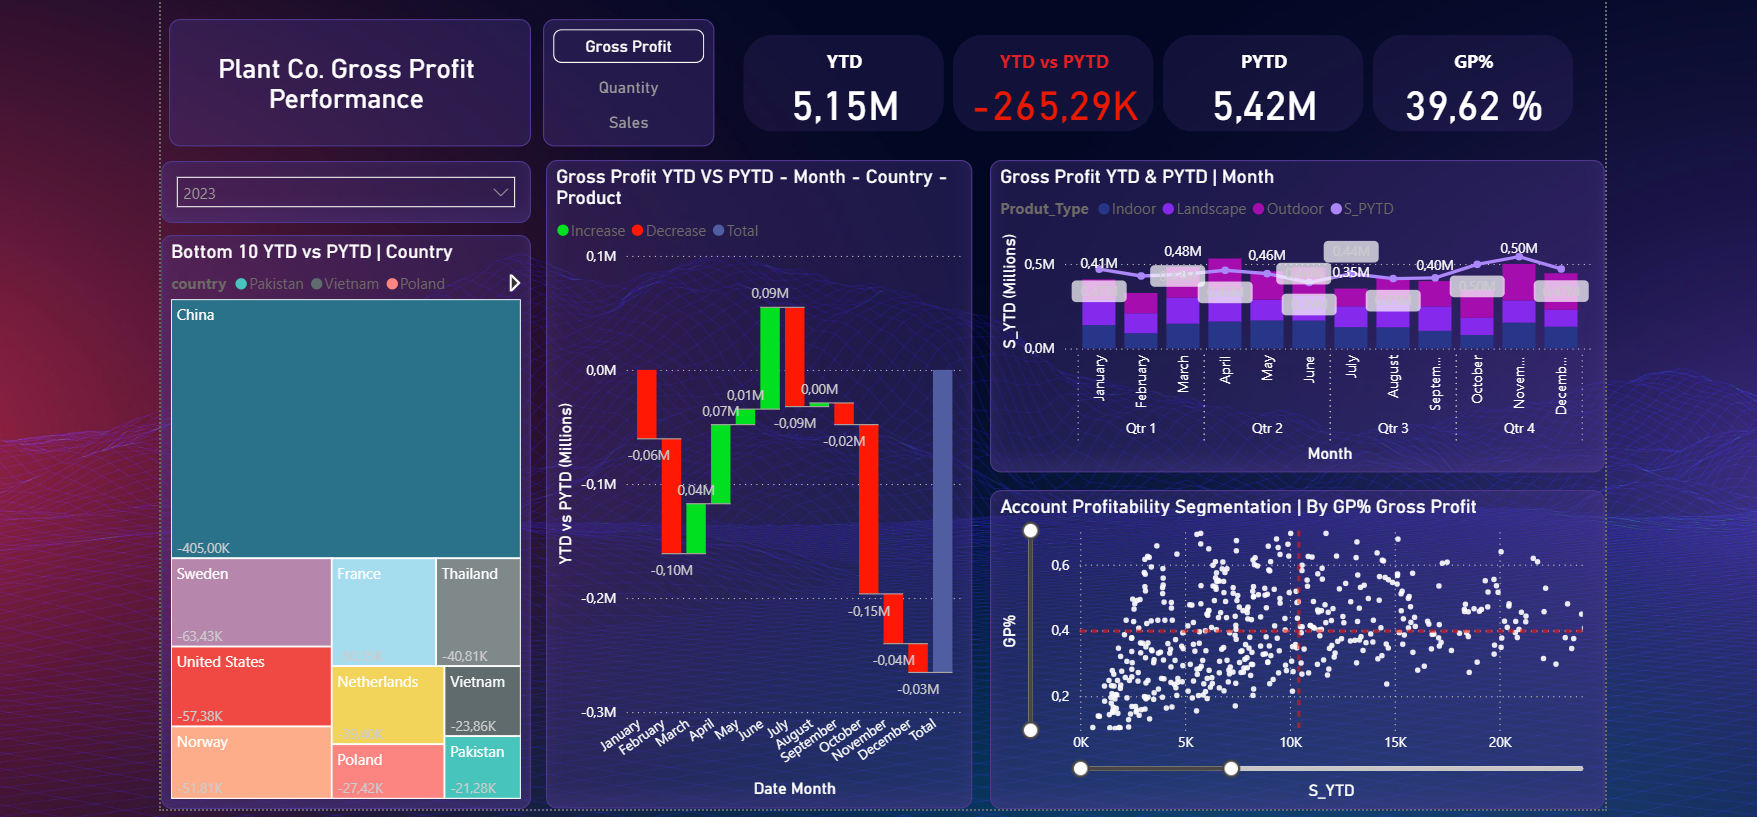

This screenshot's page, from the dashboard's own definition file:
{"tool":"powerbi","page":{"name":"Page 1","canvas":[1280,720],"ordinal":0},"visuals":[{"type":"cardVisual","fields":{"Data":["_Measures.S_YTD","_Measures.YTD vs PYTD","_Measures.S_PYTD","_Measures.GP%"]},"box":[491.3,28.8,789,96.1],"z":0},{"type":"card","fields":{"Values":["_Measures._Report title"]},"box":[6.9,19.2,321.1,112.5],"z":1000},{"type":"slicer","fields":{"Values":["Dim_Date.Date.Variation.Date Hierarchy.Year"]},"box":[0,145.5,328,54.9],"z":2000},{"type":"treemap","title":"Bottom 10 YTD vs PYTD | Country","fields":{"Group":["Dim_Accounts.country"],"Values":["_Measures.YTD vs PYTD"]},"box":[0,211.3,328,509.1],"z":3000},{"type":"waterfallChart","fields":{"Y":["_Measures.YTD vs PYTD"],"Category":["Dim_Date.Date.Variation.Date Hierarchy.Month","Dim_Accounts.country"]},"box":[341.4,144.9,378.4,574.8],"z":4000},{"type":"lineStackedColumnComboChart","fields":{"Category":["Dim_Date.Date.Variation.Date Hierarchy.Quarter","Dim_Date.Date.Variation.Date Hierarchy.Month"],"Y":["_Measures.S_YTD"],"Y2":["_Measures.S_PYTD"],"Series":["Dim_Products.Produt_Type"]},"box":[734.7,144.8,545.3,277.5],"z":5000},{"type":"scatterChart","fields":{"X":["_Measures.S_YTD"],"Y":["_Measures.GP%"],"Category":["Dim_Accounts.Account"]},"box":[735.3,436.7,544.7,283],"z":6000},{"type":"advancedSlicerVisual","fields":{"Values":["Stc_values.Values"]},"box":[338.9,19.2,152.3,112.5],"z":7000}]}

Visuals, with their boxes on the page's 1280x720 design canvas (x1, y1, x2, y2). These are canvas units, not pixel positions in the 1757x817 screenshot, which may show the page scaled, cropped or inside an application window:
cardVisual - _Measures.S_YTD x _Measures.YTD vs PYTD: {"x1": 491, "y1": 29, "x2": 1280, "y2": 125}
card - _Measures._Report title: {"x1": 7, "y1": 19, "x2": 328, "y2": 132}
slicer - Dim_Date.Date.Variation.Date Hierarchy.Year: {"x1": 0, "y1": 146, "x2": 328, "y2": 200}
"Bottom 10 YTD vs PYTD | Country" treemap: {"x1": 0, "y1": 211, "x2": 328, "y2": 720}
waterfallChart - _Measures.YTD vs PYTD x Dim_Date.Date.Variation.Date Hierarchy.Month: {"x1": 341, "y1": 145, "x2": 720, "y2": 720}
lineStackedColumnComboChart - Dim_Date.Date.Variation.Date Hierarchy.Quarter x Dim_Date.Date.Variation.Date Hierarchy.Month: {"x1": 735, "y1": 145, "x2": 1280, "y2": 422}
scatterChart - _Measures.S_YTD x _Measures.GP%: {"x1": 735, "y1": 437, "x2": 1280, "y2": 720}
advancedSlicerVisual - Stc_values.Values: {"x1": 339, "y1": 19, "x2": 491, "y2": 132}
